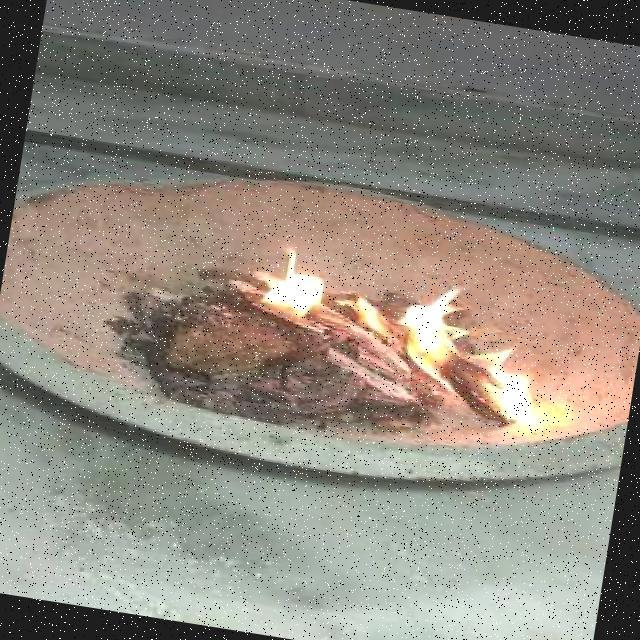Fire: (232, 241, 542, 421)
